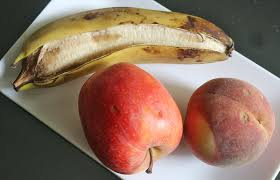apple: (75, 72, 183, 171)
damaged_apple: (183, 79, 274, 169)
